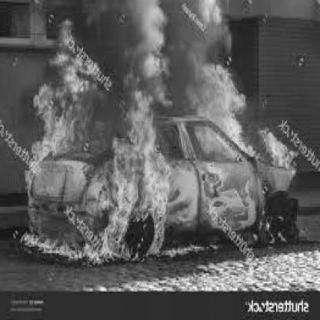Fire: (10, 16, 302, 263)
